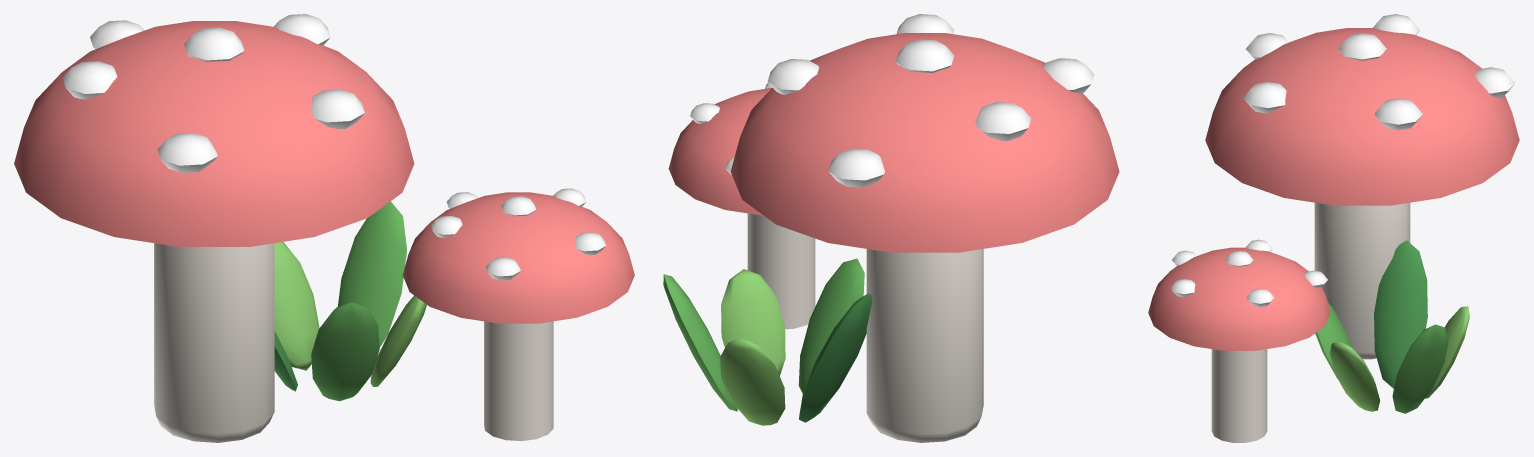
File: mushroom.glb
3 renders of one model, left to right at view 1: azimuth 30°, elevation 25°; view 2: azimuth 150°, elevation 25°; view 3: azimuth 270°, elevation 25°, orthographic. The views are drawn at different scales.
Parts seen in each view (by area): view 1: mushroom; view 2: mushroom; view 3: mushroom.
Boxes of the visible parts, x1,y1,x2,y2 form: mushroom: (14,14,634,442); mushroom: (663,14,1119,442); mushroom: (1148,14,1519,442).
Bounding box in the file's own units: 0.6579 × 0.5069 × 0.5434.
